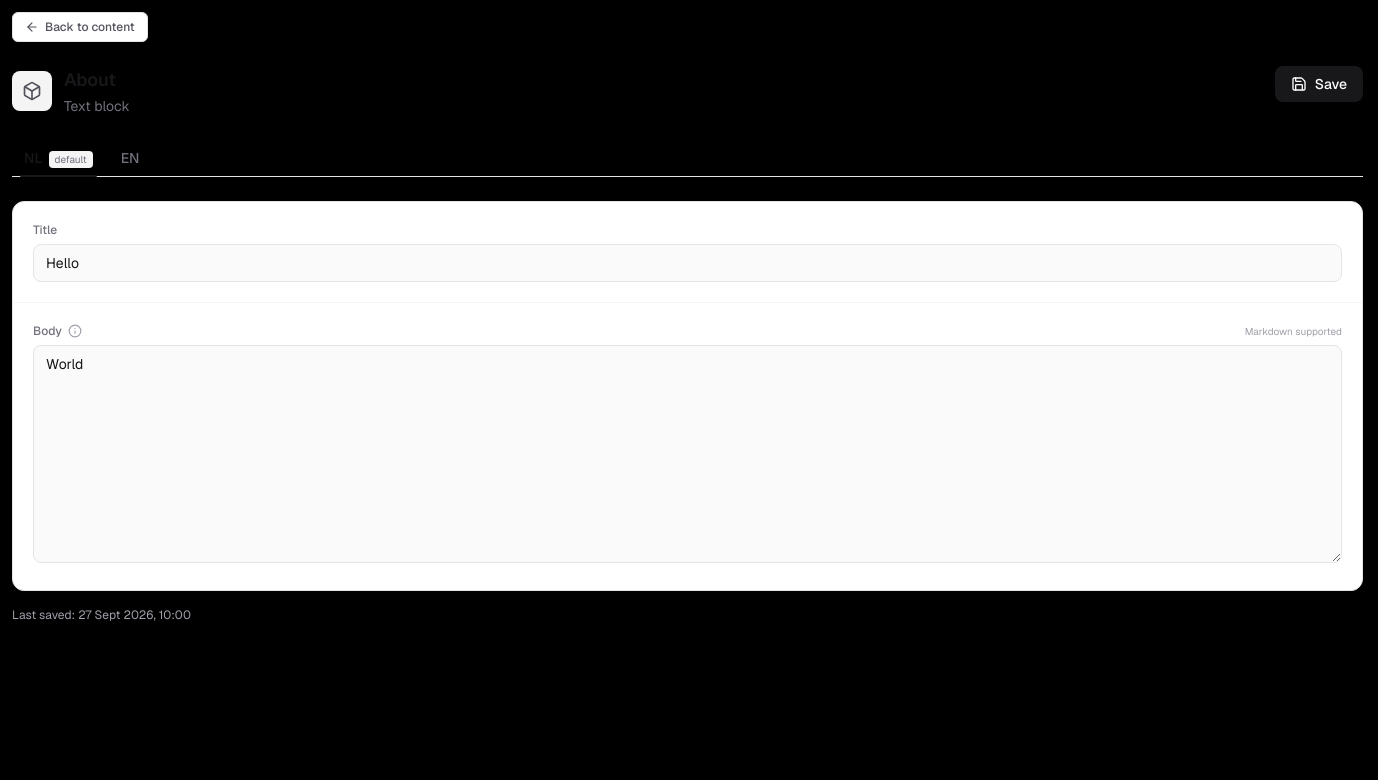
Scenario: ServiceEditor save errors › shows a string detail verbatim
Type " more" into the text box with placeholder "Write content here…" at (688, 454), box [33,345,1342,563]
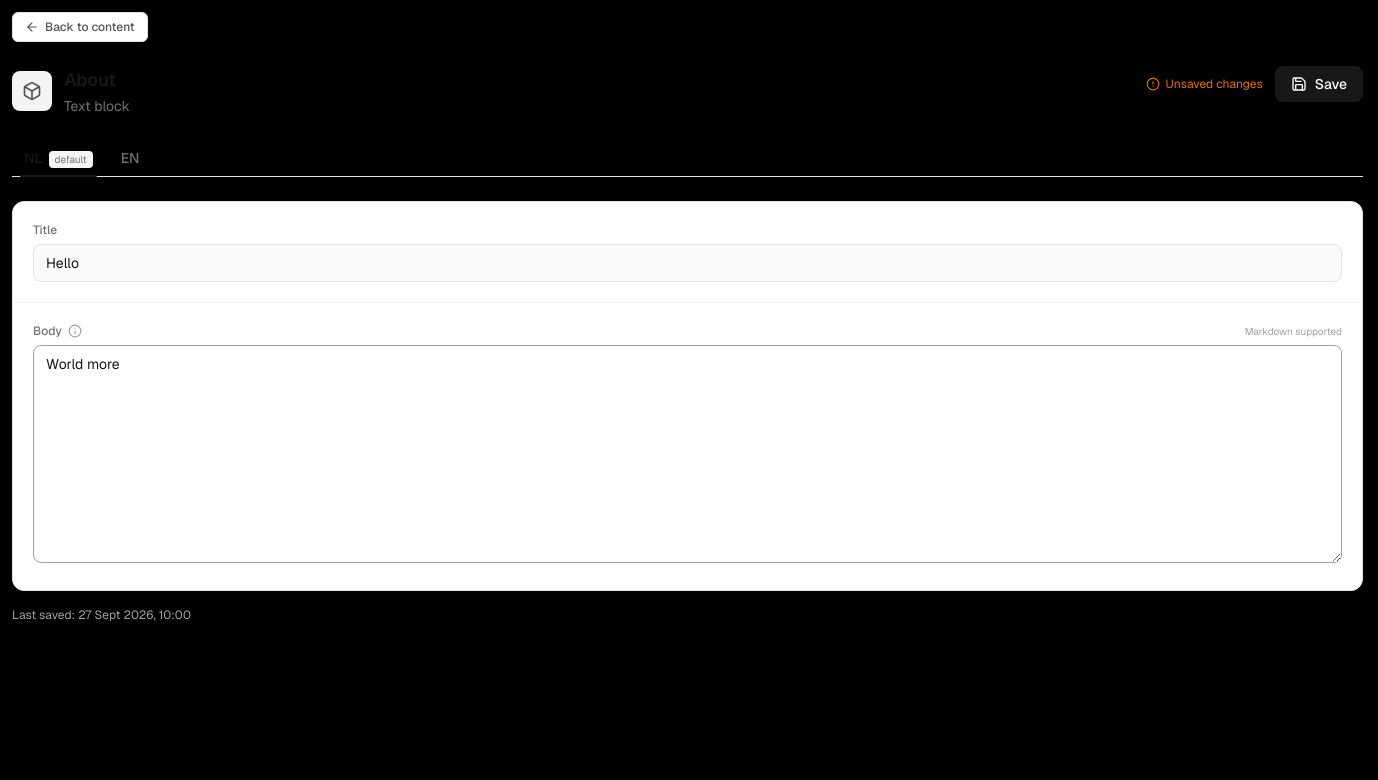
Click the button "Save" at (1319, 84), box [1275,66,1363,102]
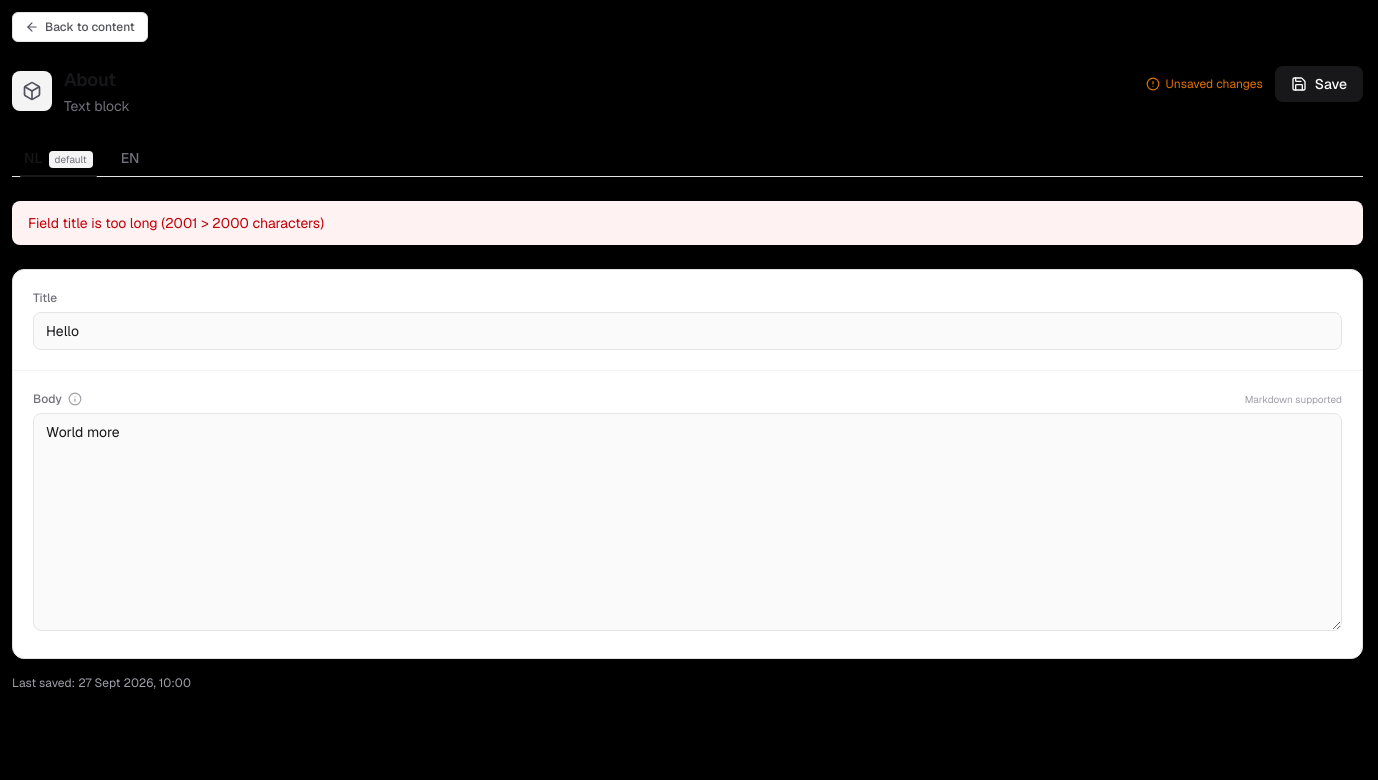
Now the text "Field title is too long (2001 > 2000 characters)" is shown, box [12,201,1363,245]
